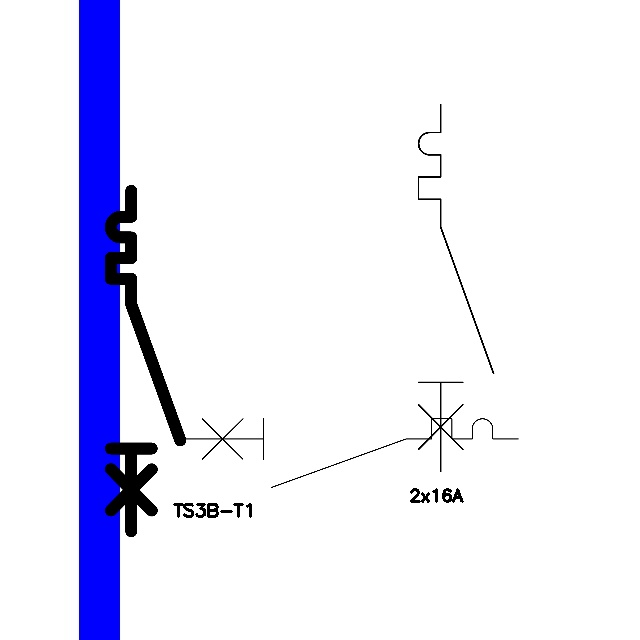interruptor_termomagnetico: (409, 95, 503, 481), (102, 182, 189, 539), (173, 410, 527, 496)
